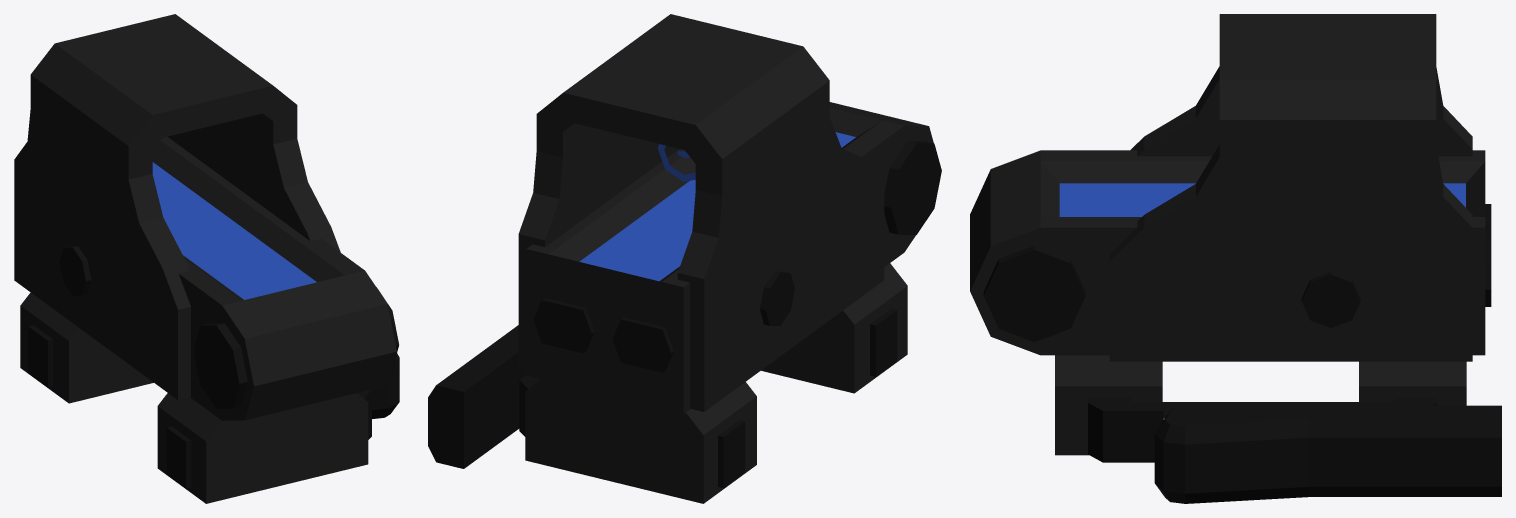
File: holo.glb
The picture shows the model from 3 angles, left to right: view 1: azimuth 30°, elevation 25°; view 2: azimuth 150°, elevation 25°; view 3: azimuth 270°, elevation 25°; orthographic projection. The views are drawn at different scales.
Parts seen in each view (by area): view 1: Holographic_West; view 2: Holographic_West; view 3: Holographic_West.
Part boxes in pixels (box(x1,y1,x2,y2)): Holographic_West: box(14, 14, 399, 503); Holographic_West: box(428, 14, 941, 503); Holographic_West: box(970, 14, 1501, 503).
Bounding box in the file's own units: 0.0382 × 0.0477 × 0.0619.
